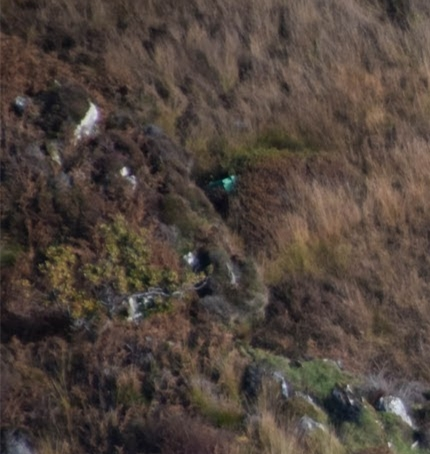white_in_green: (38, 77, 134, 167), (192, 152, 261, 219)
